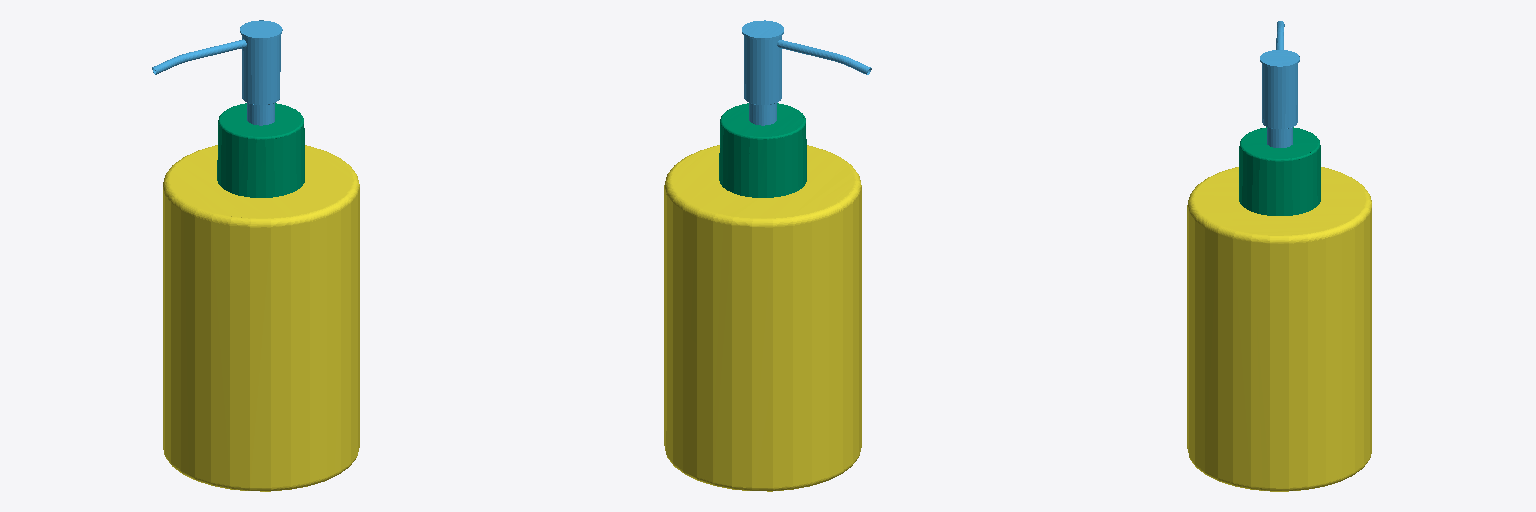
robot.urdf — partnet_2bbbe0e4-7f35-43a1-927c-d4c84e1af737:
<?xml version="1.0" ?>
<robot name="partnet_2bbbe0e4-7f35-43a1-927c-d4c84e1af737">
	<link name="base"/>
	<link name="link_0">
		<visual name="pressing_lid-4">
			<origin xyz="-0.001331836563654979 0 0.004593970516637859"/>
			<geometry>
				<mesh filename="textured_objs/original_2.obj"/>
			</geometry>
		</visual>
		<visual name="pressing_lid-4">
			<origin xyz="-0.001331836563654979 0 0.004593970516637859"/>
			<geometry>
				<mesh filename="textured_objs/original_3.obj"/>
			</geometry>
		</visual>
		<visual name="pressing_lid-4">
			<origin xyz="-0.001331836563654979 0 0.004593970516637859"/>
			<geometry>
				<mesh filename="textured_objs/original_8.obj"/>
			</geometry>
		</visual>
		<visual name="pressing_lid-4">
			<origin xyz="-0.001331836563654979 0 0.004593970516637859"/>
			<geometry>
				<mesh filename="textured_objs/original_9.obj"/>
			</geometry>
		</visual>
		<visual name="pressing_lid-4">
			<origin xyz="-0.001331836563654979 0 0.004593970516637859"/>
			<geometry>
				<mesh filename="textured_objs/original_12.obj"/>
			</geometry>
		</visual>
		<visual name="pressing_lid-4">
			<origin xyz="-0.001331836563654979 0 0.004593970516637859"/>
			<geometry>
				<mesh filename="textured_objs/original_11.obj"/>
			</geometry>
		</visual>
		<visual name="pressing_lid-4">
			<origin xyz="-0.001331836563654979 0 0.004593970516637859"/>
			<geometry>
				<mesh filename="textured_objs/original_14.obj"/>
			</geometry>
		</visual>
		<collision>
			<origin xyz="-0.001331836563654979 0 0.004593970516637859"/>
			<geometry>
				<mesh filename="textured_objs/original_2.obj"/>
			</geometry>
		</collision>
		<collision>
			<origin xyz="-0.001331836563654979 0 0.004593970516637859"/>
			<geometry>
				<mesh filename="textured_objs/original_3.obj"/>
			</geometry>
		</collision>
		<collision>
			<origin xyz="-0.001331836563654979 0 0.004593970516637859"/>
			<geometry>
				<mesh filename="textured_objs/original_8.obj"/>
			</geometry>
		</collision>
		<collision>
			<origin xyz="-0.001331836563654979 0 0.004593970516637859"/>
			<geometry>
				<mesh filename="textured_objs/original_9.obj"/>
			</geometry>
		</collision>
		<collision>
			<origin xyz="-0.001331836563654979 0 0.004593970516637859"/>
			<geometry>
				<mesh filename="textured_objs/original_12.obj"/>
			</geometry>
		</collision>
		<collision>
			<origin xyz="-0.001331836563654979 0 0.004593970516637859"/>
			<geometry>
				<mesh filename="textured_objs/original_11.obj"/>
			</geometry>
		</collision>
		<collision>
			<origin xyz="-0.001331836563654979 0 0.004593970516637859"/>
			<geometry>
				<mesh filename="textured_objs/original_14.obj"/>
			</geometry>
		</collision>
	</link>
	<joint name="joint_0" type="continuous">
		<origin xyz="0.0 0 0.0"/>
		<axis xyz="0 1 0"/>
		<child link="link_0"/>
		<parent link="link_0_helper"/>
	</joint>
	<link name="link_1">
		<visual name="head-6">
			<origin xyz="-0.0013319789479081245 0 0.0045941254311977365"/>
			<geometry>
				<mesh filename="textured_objs/original_6.obj"/>
			</geometry>
		</visual>
		<collision>
			<origin xyz="-0.0013319789479081245 0 0.0045941254311977365"/>
			<geometry>
				<mesh filename="textured_objs/original_6.obj"/>
			</geometry>
		</collision>
	</link>
	<joint name="joint_1" type="continuous">
		<origin xyz="0.0 0 0.0"/>
		<axis xyz="0 1 0"/>
		<child link="link_1"/>
		<parent link="link_1_helper"/>
	</joint>
	<link name="link_2">
		<visual name="base_body-8">
			<origin xyz="0 0 0"/>
			<geometry>
				<mesh filename="textured_objs/original_5.obj"/>
			</geometry>
		</visual>
		<visual name="base_body-8">
			<origin xyz="0 0 0"/>
			<geometry>
				<mesh filename="textured_objs/original_1.obj"/>
			</geometry>
		</visual>
		<collision>
			<origin xyz="0 0 0"/>
			<geometry>
				<mesh filename="textured_objs/original_5.obj"/>
			</geometry>
		</collision>
		<collision>
			<origin xyz="0 0 0"/>
			<geometry>
				<mesh filename="textured_objs/original_1.obj"/>
			</geometry>
		</collision>
	</link>
	<joint name="joint_2" type="fixed">
		<origin rpy="1.570796326794897 0 -1.570796326794897" xyz="0 0 0"/>
		<child link="link_2"/>
		<parent link="base"/>
	</joint>
	<link name="link_0_helper">
		<inertial>
			<origin xyz="0 0 0"/>
			<mass value="1e-6"/>
			<inertia ixx="1e-10" ixy="0" ixz="0" iyy="1e-10" iyz="0" izz="1e-10"/>
		</inertial>
	</link>
	<joint name="joint_3" type="prismatic">
		<origin xyz="-1.4238425314564568e-07 0 1.549145598770882e-07"/>
		<axis xyz="0 -1 0"/>
		<child link="link_0_helper"/>
		<parent link="link_1"/>
		<limit lower="0" upper="0.09"/>
	</joint>
	<link name="link_1_helper">
		<inertial>
			<origin xyz="0 0 0"/>
			<mass value="1e-6"/>
			<inertia ixx="1e-10" ixy="0" ixz="0" iyy="1e-10" iyz="0" izz="1e-10"/>
		</inertial>
	</link>
	<joint name="joint_4" type="prismatic">
		<origin xyz="0.0013319789479081245 0 -0.0045941254311977365"/>
		<axis xyz="0 1 0"/>
		<child link="link_1_helper"/>
		<parent link="link_2"/>
		<limit lower="0" upper="0.01"/>
	</joint>
</robot>

--- Render facts (derived) ---
The picture shows the robot from 3 angles, left to right: view 1: azimuth 30°, elevation 25°; view 2: azimuth 150°, elevation 25°; view 3: azimuth 270°, elevation 25°; orthographic projection.
Robot: partnet_2bbbe0e4-7f35-43a1-927c-d4c84e1af737 — 6 links, 5 joints (2 continuous, 2 prismatic, 1 fixed); root link base; default pose: every joint at zero.
Links seen in each view (by area): view 1: link_2, link_1, link_0; view 2: link_2, link_1, link_0; view 3: link_2, link_1, link_0.
Boxes of the visible links, x1,y1,x2,y2 form: link_2: (163,145,359,491); link_1: (217,103,304,197); link_0: (152,20,282,125); link_2: (664,145,861,491); link_1: (719,103,806,197); link_0: (742,20,871,125); link_2: (1187,167,1371,491); link_1: (1239,127,1320,215); link_0: (1260,21,1299,147).
Size in the robot's own frame: 0.7564 by 0.6718 by 1.59 metres.
10 mesh visuals loaded from 10 distinct referenced files (10 OBJ).
